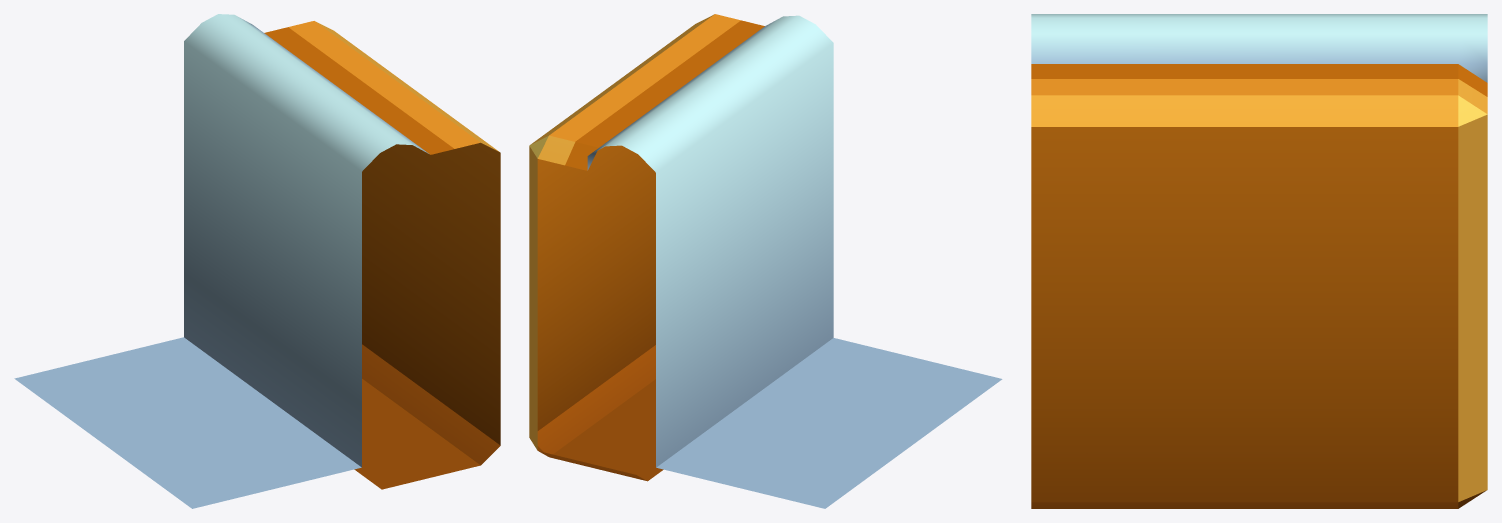
File: pool_6.fbx
3 renders of one model, left to right at view 1: azimuth 30°, elevation 25°; view 2: azimuth 150°, elevation 25°; view 3: azimuth 270°, elevation 25°, orthographic. The views are drawn at different scales.
Parts seen in each view (by area): view 1: pool_6; view 2: pool_6; view 3: pool_6.
Part boxes in pixels (x1=…): pool_6: x1=14, y1=14, x2=500, y2=508; pool_6: x1=529, y1=14, x2=1002, y2=508; pool_6: x1=1031, y1=14, x2=1487, y2=508.
Bounding box in the file's own units: 2 × 2.12 × 2.
